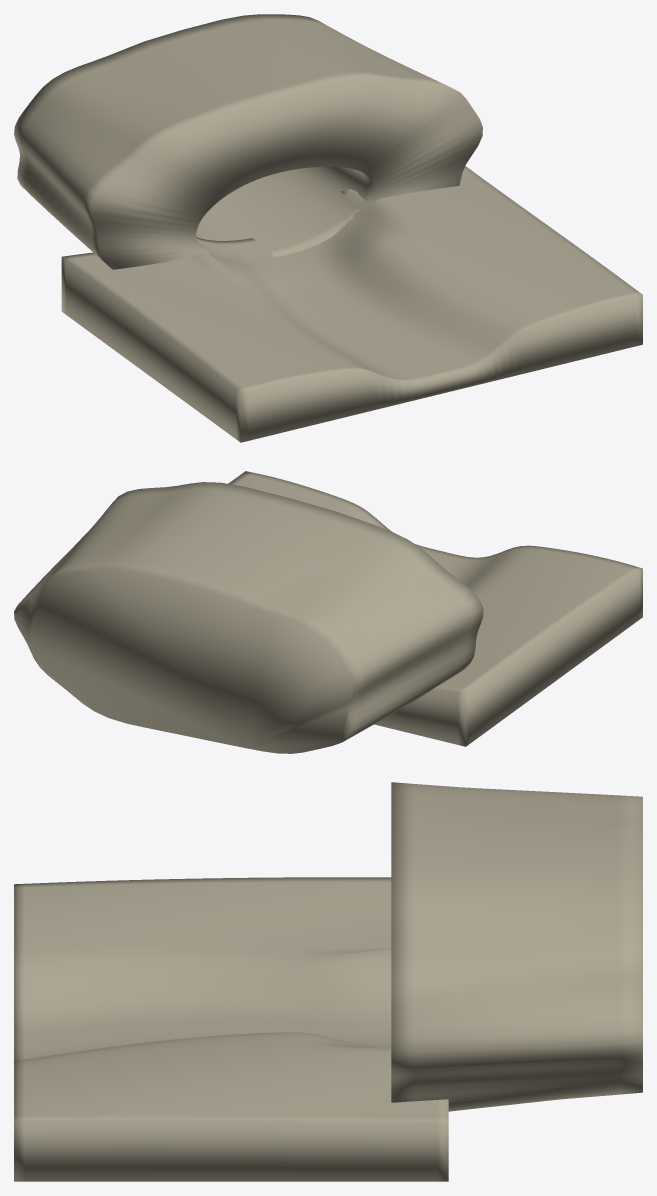
Rendered from karst-spring-mouth.glb.
3 views of the same model, one above another, from view 1: azimuth 30°, elevation 25°; view 2: azimuth 150°, elevation 25°; view 3: azimuth 270°, elevation 25° (orthographic). The views are drawn at different scales.
Visible parts, largest first — view 1: attached-exposed-rock-bed-and-short-open-spring-channel-no-w, continuous-thick-rock-roof-low-spring-cavity-and-wall; view 2: continuous-thick-rock-roof-low-spring-cavity-and-wall, attached-exposed-rock-bed-and-short-open-spring-channel-no-w; view 3: attached-exposed-rock-bed-and-short-open-spring-channel-no-w, continuous-thick-rock-roof-low-spring-cavity-and-wall.
Part boxes in pixels (x1,y1,x2,y2): attached-exposed-rock-bed-and-short-open-spring-channel-no-w: (61,166,642,442); continuous-thick-rock-roof-low-spring-cavity-and-wall: (14,14,482,269); continuous-thick-rock-roof-low-spring-cavity-and-wall: (14,482,483,753); attached-exposed-rock-bed-and-short-open-spring-channel-no-w: (228,471,642,746); attached-exposed-rock-bed-and-short-open-spring-channel-no-w: (14,877,448,1181); continuous-thick-rock-roof-low-spring-cavity-and-wall: (391,782,642,1111).
Bounding box in the file's own units: 3 × 1.32 × 3.35.
